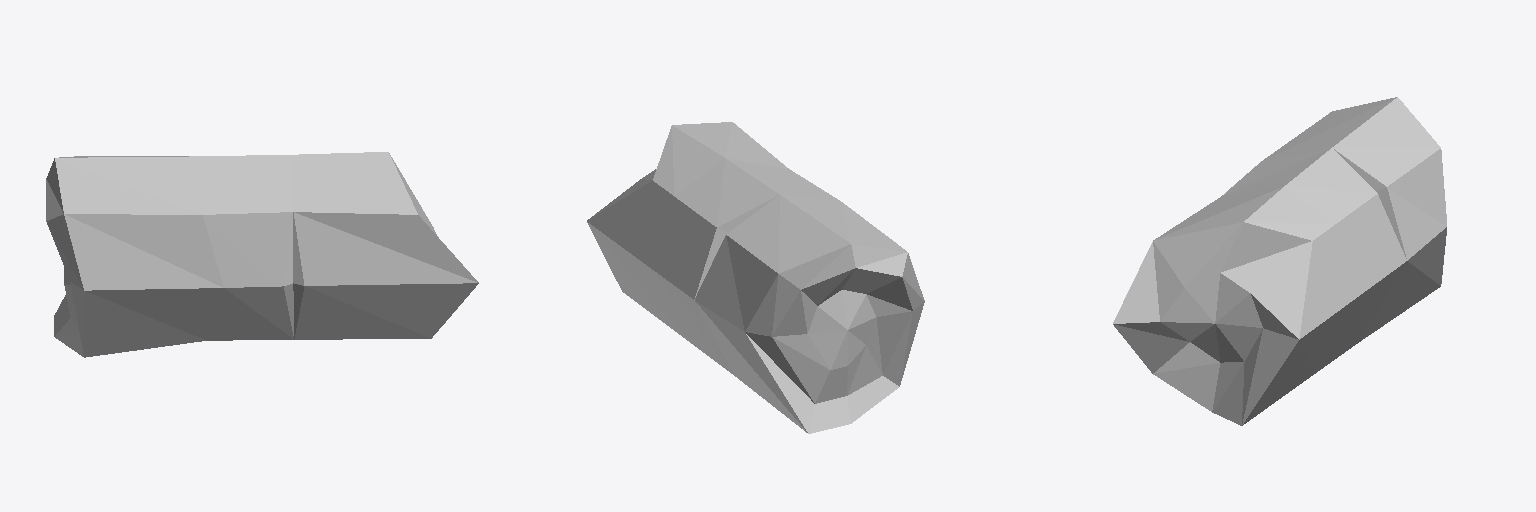
Rendered from WOH_Broken_Pillar_LyingDown.obj.
3 renders of one model, left to right at view 1: azimuth 30°, elevation 25°; view 2: azimuth 150°, elevation 25°; view 3: azimuth 270°, elevation 25°, orthographic.
Parts seen in each view (by area): view 1: WOH_Broken_Pillar_LyingDown; view 2: WOH_Broken_Pillar_LyingDown; view 3: WOH_Broken_Pillar_LyingDown.
Boxes of the visible parts, box(x1,y1,x2,y2) form: WOH_Broken_Pillar_LyingDown: box(46, 152, 478, 357); WOH_Broken_Pillar_LyingDown: box(587, 122, 924, 433); WOH_Broken_Pillar_LyingDown: box(1113, 97, 1446, 425).
Size of the model in its own units: 14.56 by 7.26 by 12.28.